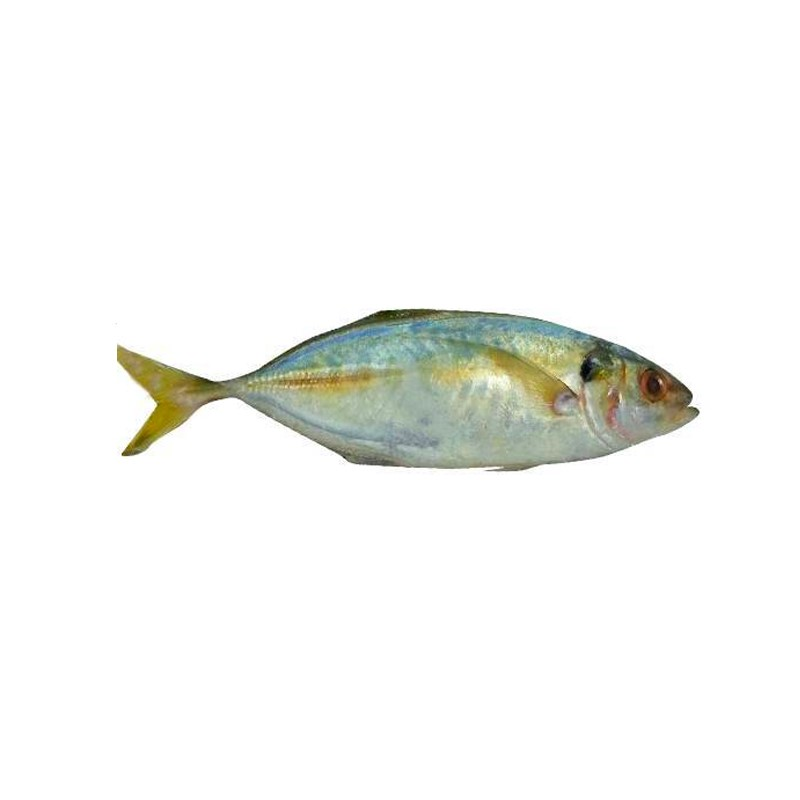Ikan Selar: (89, 259, 730, 520)
